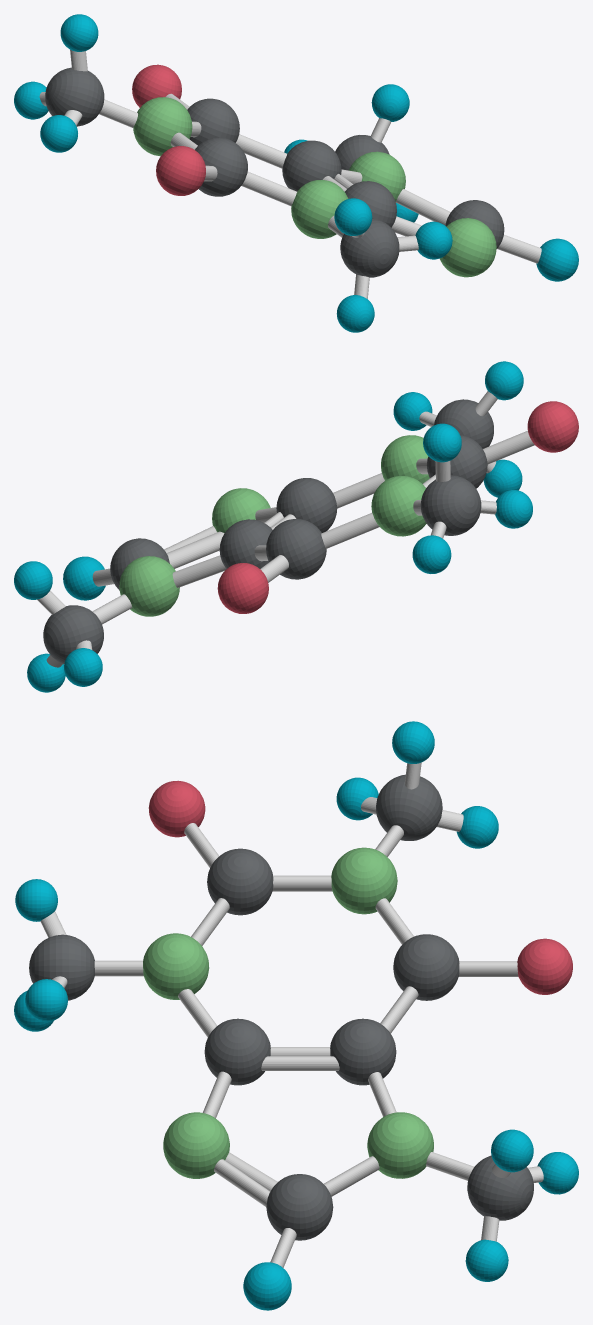
File: Molecule.glb
3 views of the same model, one above another, from view 1: azimuth 30°, elevation 25°; view 2: azimuth 150°, elevation 25°; view 3: azimuth 270°, elevation 25° (orthographic). The views are drawn at different scales.
Parts seen in each view (by area): view 1: Mesh_Mesh_head_geo.001_lambert2SG.001; view 2: Mesh_Mesh_head_geo.001_lambert2SG.001; view 3: Mesh_Mesh_head_geo.001_lambert2SG.001.
Part boxes in pixels (x1,y1,x2,y2): Mesh_Mesh_head_geo.001_lambert2SG.001: [14, 14, 578, 332]; Mesh_Mesh_head_geo.001_lambert2SG.001: [14, 361, 578, 692]; Mesh_Mesh_head_geo.001_lambert2SG.001: [14, 721, 578, 1310].
Bounding box in the file's own units: 50.85 × 31.64 × 44.75.
